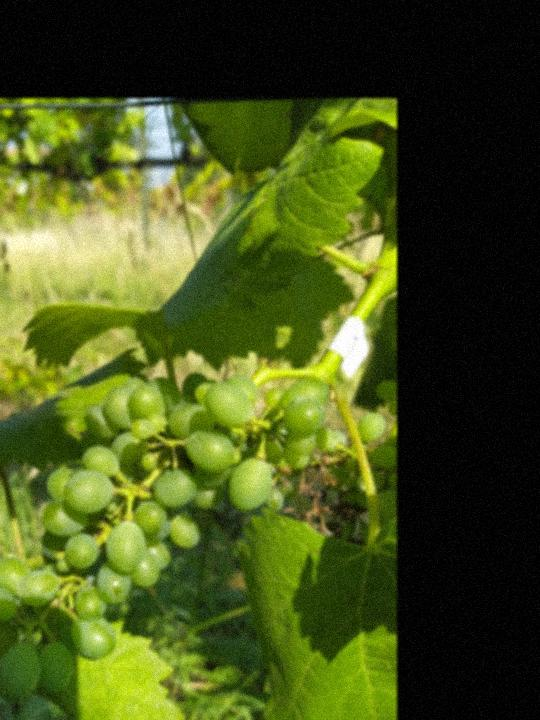grape: (0, 368, 347, 708)
